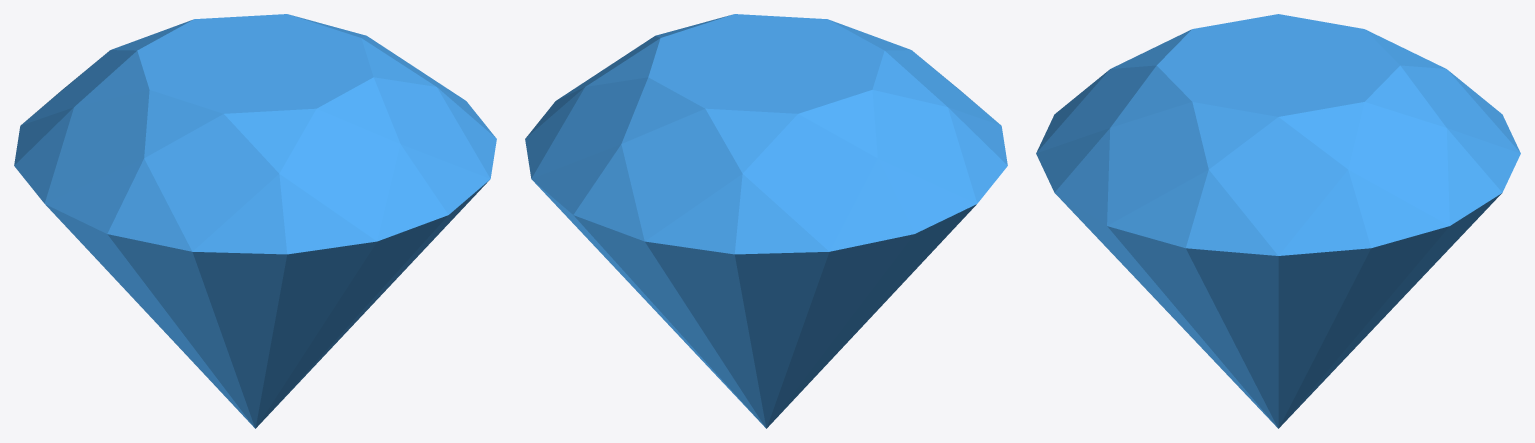
File: diamond 2.fbx
3 renders of one model, left to right at view 1: azimuth 30°, elevation 25°; view 2: azimuth 150°, elevation 25°; view 3: azimuth 270°, elevation 25°, orthographic.
Visible parts, largest first — view 1: diamond 2; view 2: diamond 2; view 3: diamond 2.
Part boxes in pixels (x1,y1,x2,y2): diamond 2: (14, 14, 496, 428); diamond 2: (525, 14, 1007, 428); diamond 2: (1036, 14, 1520, 428).
Bounding box in the file's own units: 8.85 × 7.32 × 8.85.
